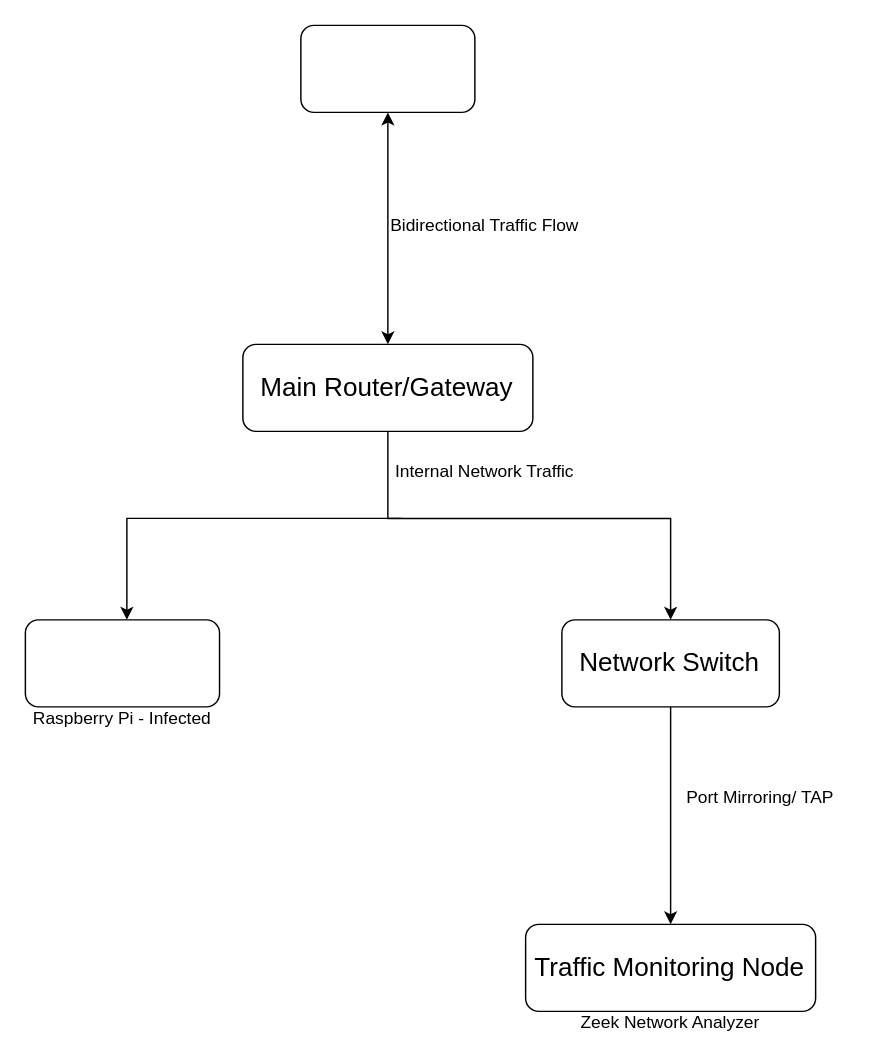
This 883x1059 diagram has some shape labels left out. The centre of each missing label's shape, as x and y in pixels:
"IoT Device 1" belongs at pixel 122 662.
"The Internet" belongs at pixel 387 68.
